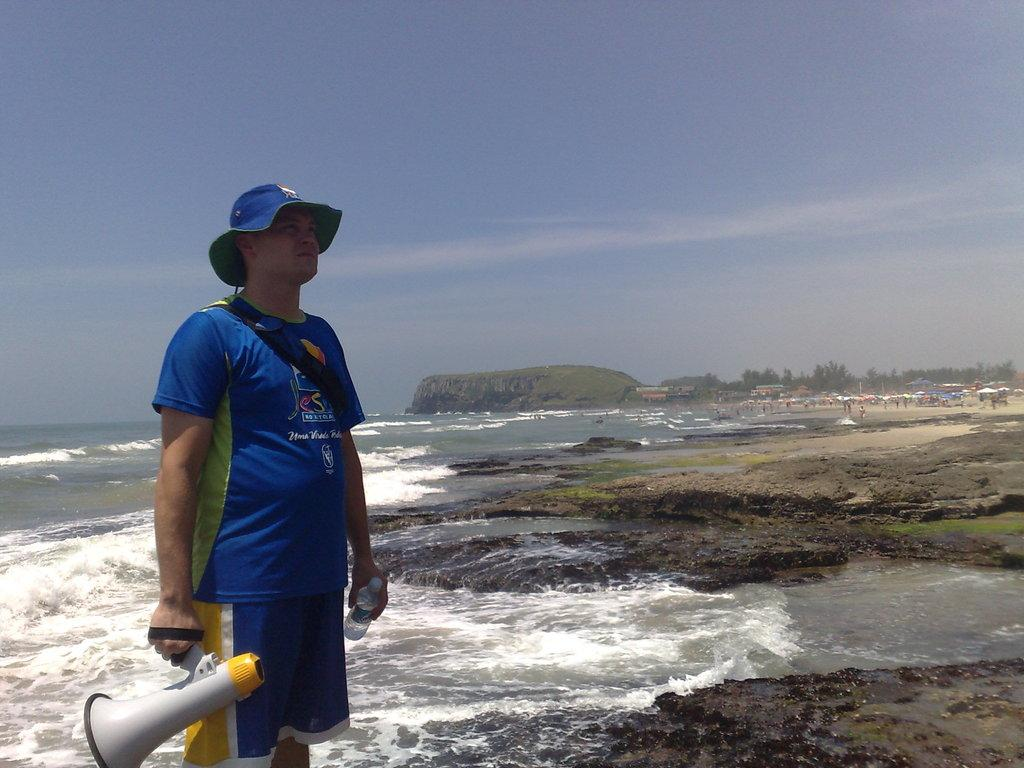Hat: (200, 169, 352, 291)
